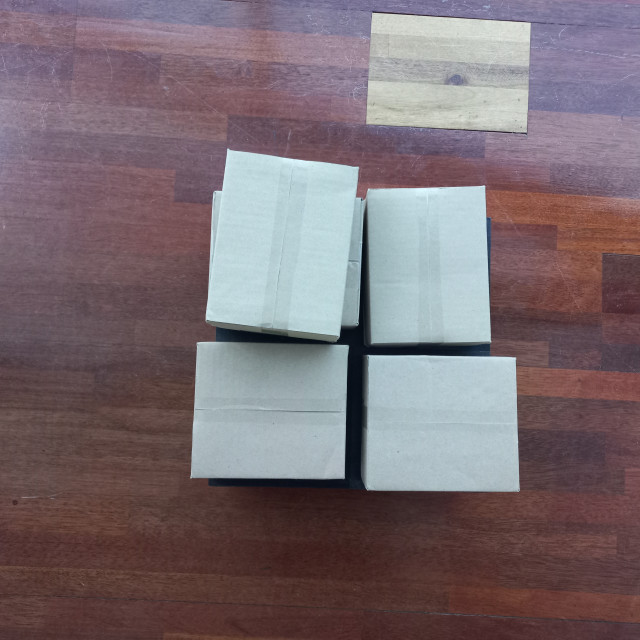box: (205, 146, 359, 343), (187, 338, 351, 483), (360, 353, 520, 491), (363, 186, 493, 347)
